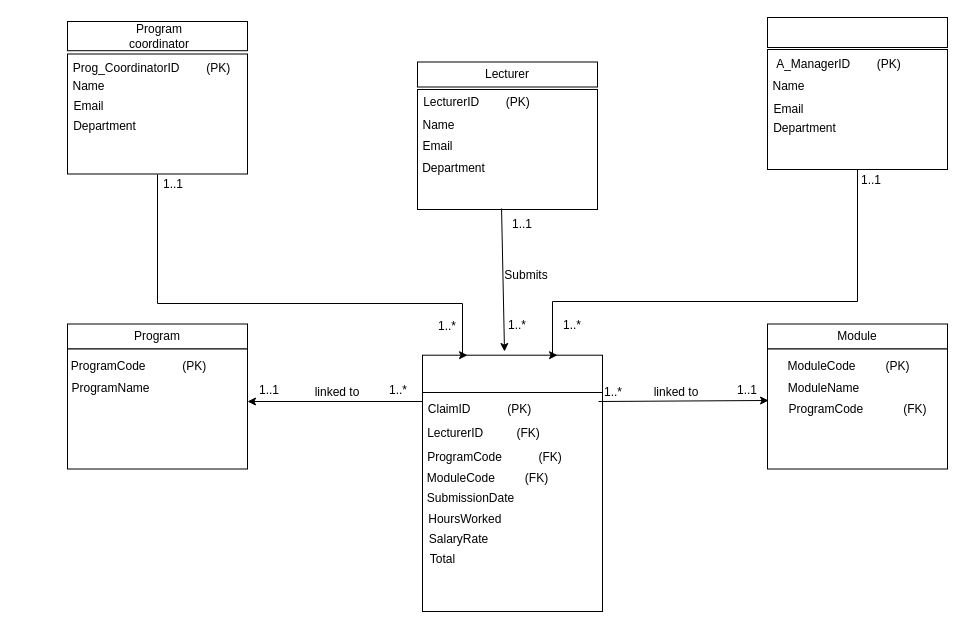
Some shapes in this 965 by 629 pixel diagram are drawn without their labels. Here are the shapes that lost their labels. From the top down, the box of each, then its label:
(766, 16, 948, 48): Academic manager
(422, 354, 602, 392): Claims
